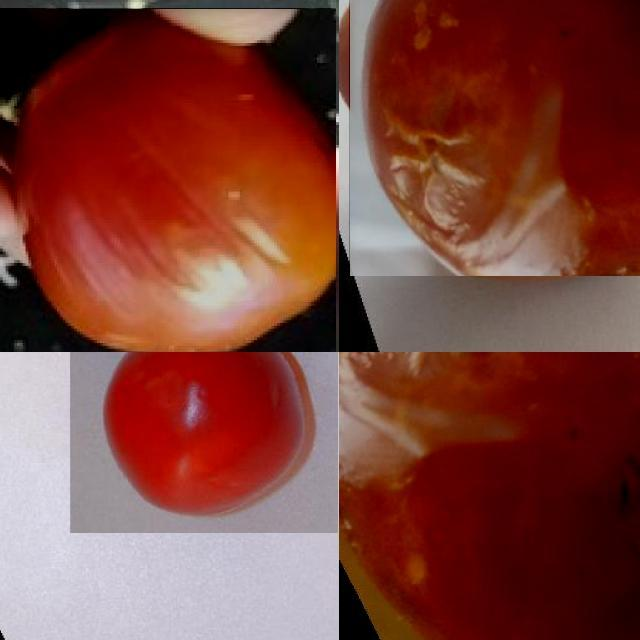Fresh Tomato: (70, 352, 337, 533)
Rotten Tomato: (0, 8, 336, 352), (339, 352, 640, 640), (349, 0, 640, 276)
